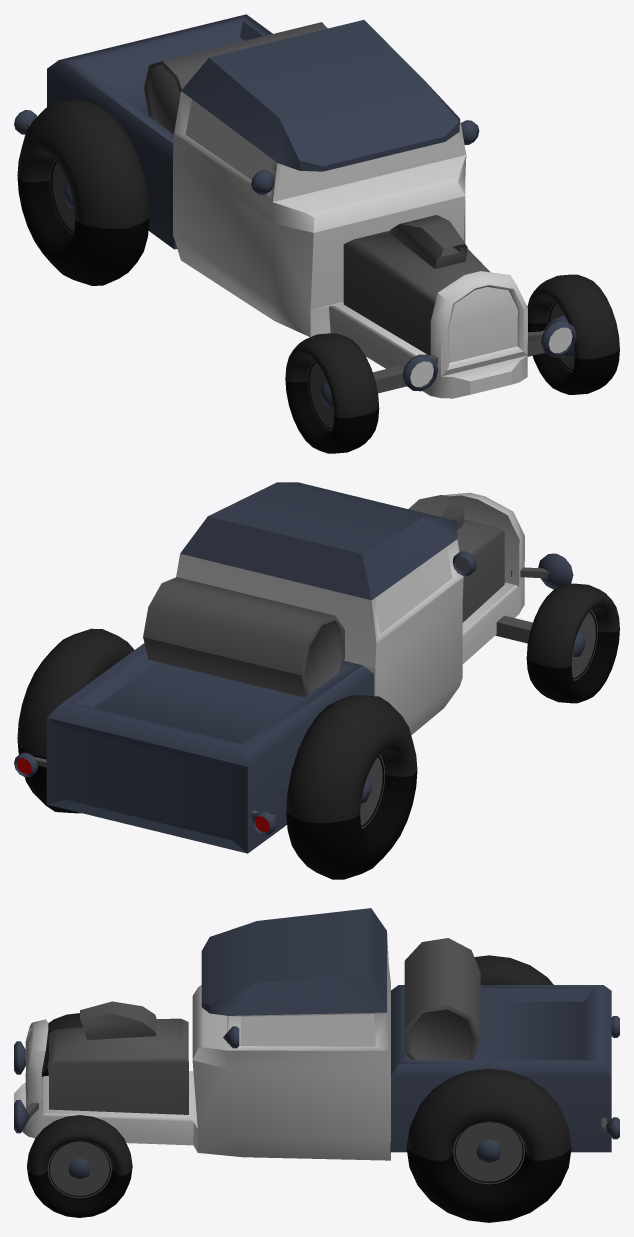
The model's file is pickup-simple.obj.
3 renders of one model, top to bottom at view 1: azimuth 30°, elevation 25°; view 2: azimuth 150°, elevation 25°; view 3: azimuth 270°, elevation 25°, orthographic. The views are drawn at different scales.
Parts seen in each view (by area): view 1: Body, WheelBR, WheelFR, WheelFL; view 2: Body, WheelBR, WheelFR, WheelBL; view 3: Body, WheelBL, WheelFL, WheelBR, WheelFR.
Part boxes in pixels (<box>): Body: <box>14,14,576,398</box>; WheelBR: <box>17,100,149,285</box>; WheelFR: <box>285,333,379,453</box>; WheelFL: <box>527,274,619,394</box>; Body: <box>14,482,573,853</box>; WheelBR: <box>286,695,417,879</box>; WheelFR: <box>526,583,619,703</box>; WheelBL: <box>17,628,134,813</box>; Body: <box>14,908,619,1160</box>; WheelBL: <box>406,1068,571,1222</box>; WheelFL: <box>27,1115,132,1217</box>; WheelBR: <box>474,955,553,984</box>; WheelFR: <box>42,1013,83,1076</box>.
Bounding box in the file's own units: 2.22 × 1.61 × 3.95.
